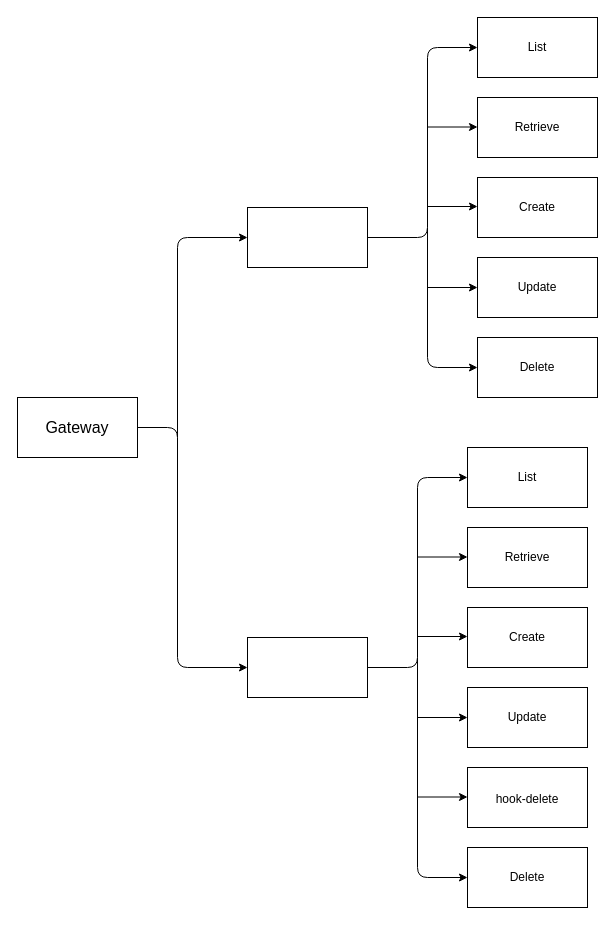
Some shapes in this 615 by 925 pixel diagram are drawn without their labels. The centre of each missing label's shape, as x and y in pixels:
"People api" belongs at point (307, 237).
"Places api" belongs at point (307, 667).
